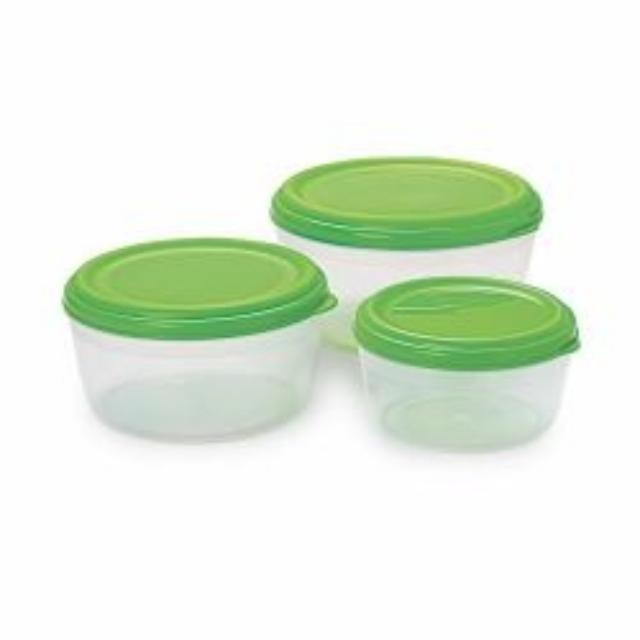plastic: (62, 157, 579, 451)
